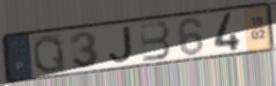3: (68, 29, 101, 70)
4: (212, 10, 243, 53)
6: (176, 16, 206, 57)
B: (138, 20, 173, 64)
J: (107, 24, 135, 64)
Q: (31, 33, 68, 75)
